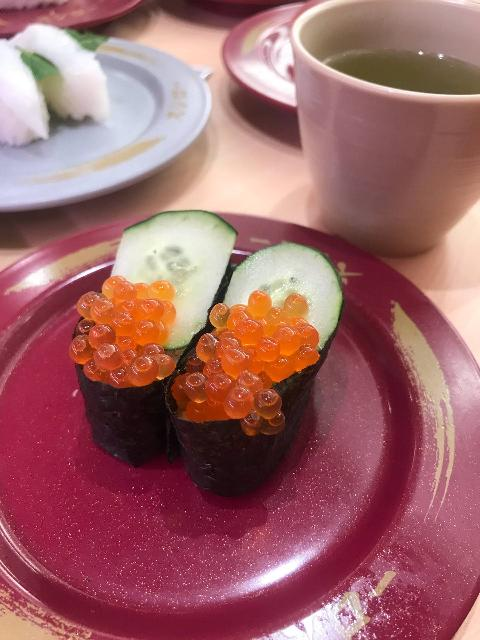janred: (0, 218, 467, 640), (223, 6, 311, 109), (0, 0, 159, 22)
janwhite: (0, 40, 213, 192)
